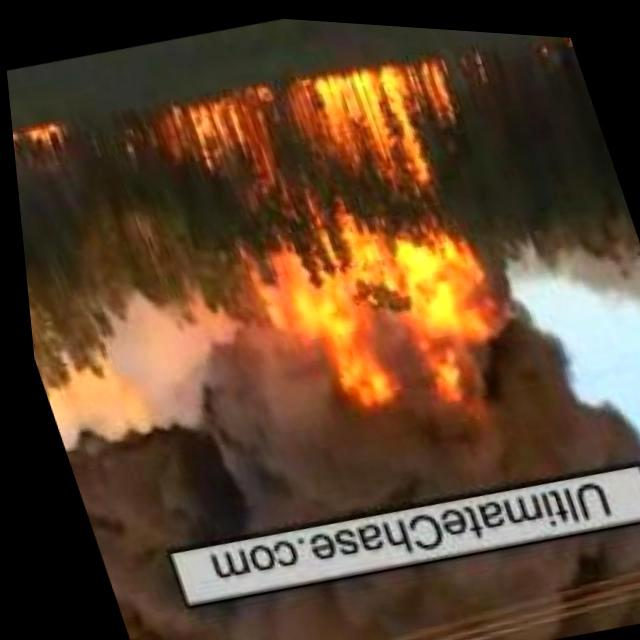fire: (142, 32, 560, 468), (8, 115, 84, 182)
